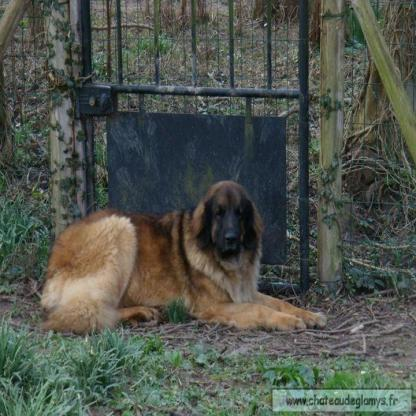Leonberg: (38, 176, 328, 338)
